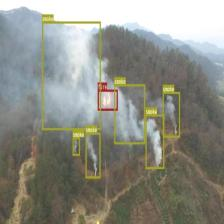fire: (98, 89, 118, 111)
smoke: (41, 20, 100, 130), (114, 84, 145, 144), (145, 114, 164, 168), (162, 92, 180, 137), (86, 132, 100, 178), (72, 137, 80, 155)
